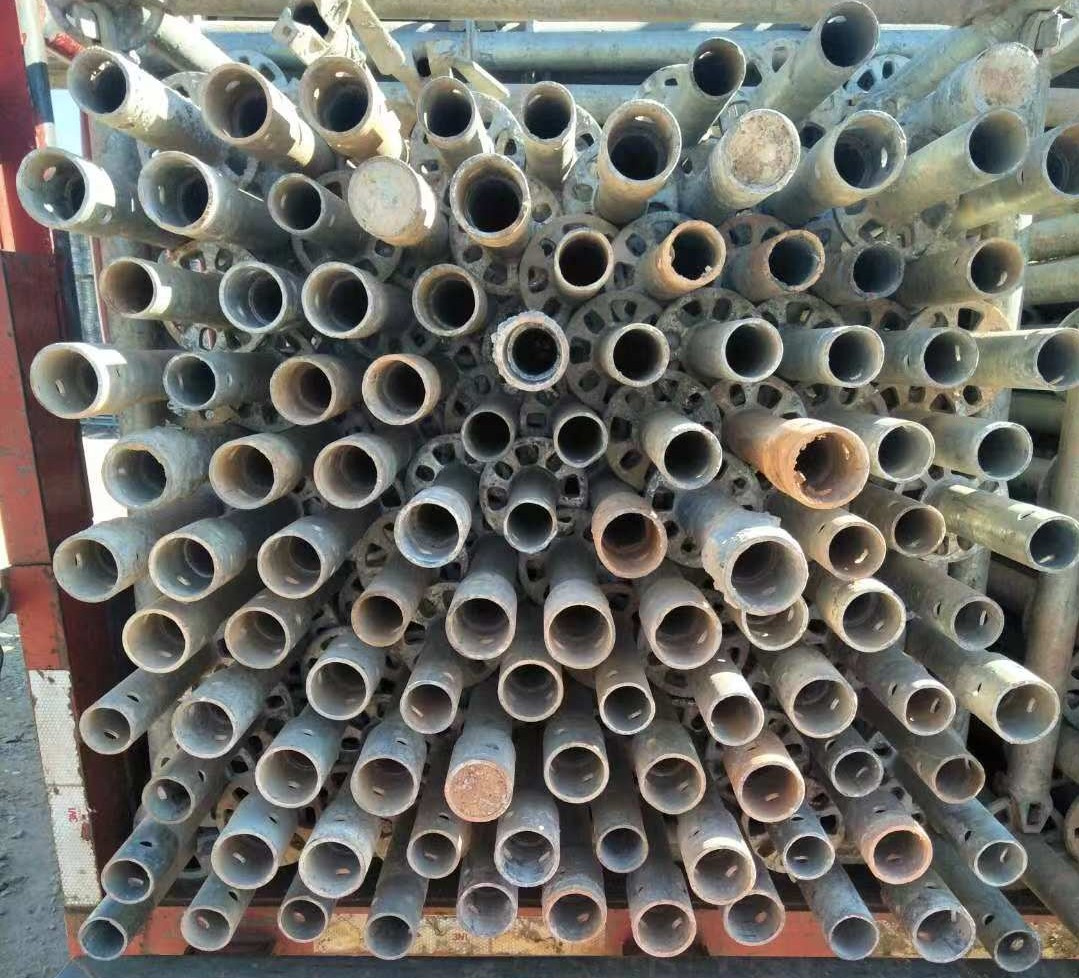blocked_circle_steel: (722, 107, 802, 190), (345, 155, 422, 238), (973, 37, 1044, 112), (444, 756, 512, 824)
circle_steel: (446, 151, 535, 242), (601, 99, 688, 185), (132, 149, 217, 236), (724, 532, 810, 617), (489, 309, 574, 394), (7, 149, 93, 228), (297, 55, 378, 136), (829, 108, 908, 191), (793, 428, 872, 508), (646, 596, 725, 674), (29, 342, 107, 420), (198, 62, 274, 141), (252, 525, 329, 601), (262, 353, 340, 427), (62, 41, 134, 120), (216, 261, 291, 336), (390, 497, 465, 572), (299, 262, 373, 338), (592, 506, 669, 579), (359, 349, 429, 428), (52, 531, 126, 605), (408, 265, 483, 338), (203, 440, 280, 511), (99, 439, 175, 510), (309, 440, 384, 510), (410, 73, 481, 146), (963, 108, 1033, 182), (146, 532, 217, 603), (222, 605, 292, 675), (495, 655, 566, 724), (254, 745, 324, 814), (813, 1, 883, 70), (167, 696, 240, 762), (543, 603, 616, 669), (207, 827, 281, 892), (121, 610, 194, 675), (659, 218, 728, 286), (305, 657, 375, 724), (551, 225, 617, 296), (638, 751, 709, 817), (784, 677, 859, 739), (685, 843, 757, 907), (445, 595, 514, 661), (349, 751, 417, 817), (761, 226, 829, 292), (909, 900, 977, 965), (993, 680, 1061, 745), (298, 837, 368, 900), (606, 322, 672, 388), (838, 589, 905, 654), (822, 322, 887, 389), (867, 822, 935, 886), (516, 76, 579, 145), (544, 740, 611, 804), (719, 318, 787, 381), (738, 763, 807, 825), (628, 900, 699, 959), (740, 593, 811, 651), (346, 586, 411, 649), (873, 422, 938, 485), (660, 426, 724, 489), (493, 829, 561, 888), (395, 675, 459, 737), (971, 423, 1036, 483), (267, 172, 326, 238), (543, 886, 609, 945), (99, 256, 159, 320), (158, 352, 222, 412), (964, 236, 1028, 296), (454, 882, 521, 939), (822, 521, 886, 580), (921, 325, 980, 389), (550, 409, 612, 469), (689, 37, 748, 100), (1032, 322, 1079, 400), (723, 889, 787, 946), (966, 835, 1031, 891), (1024, 513, 1079, 579), (702, 692, 769, 746), (77, 701, 136, 759), (849, 242, 909, 299), (599, 683, 658, 739), (94, 857, 159, 907), (459, 406, 515, 464), (897, 684, 956, 738), (176, 905, 241, 953), (593, 823, 653, 875), (500, 499, 557, 553), (1042, 120, 1079, 203), (824, 912, 883, 964), (141, 772, 196, 827), (781, 829, 837, 883), (891, 503, 945, 559), (829, 747, 884, 801), (950, 596, 1005, 650), (406, 828, 460, 881), (361, 911, 417, 962), (929, 753, 987, 802), (277, 894, 331, 944), (76, 917, 133, 961), (991, 927, 1044, 972)
